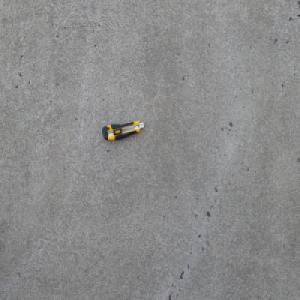Cutter: (101, 120, 144, 140)
